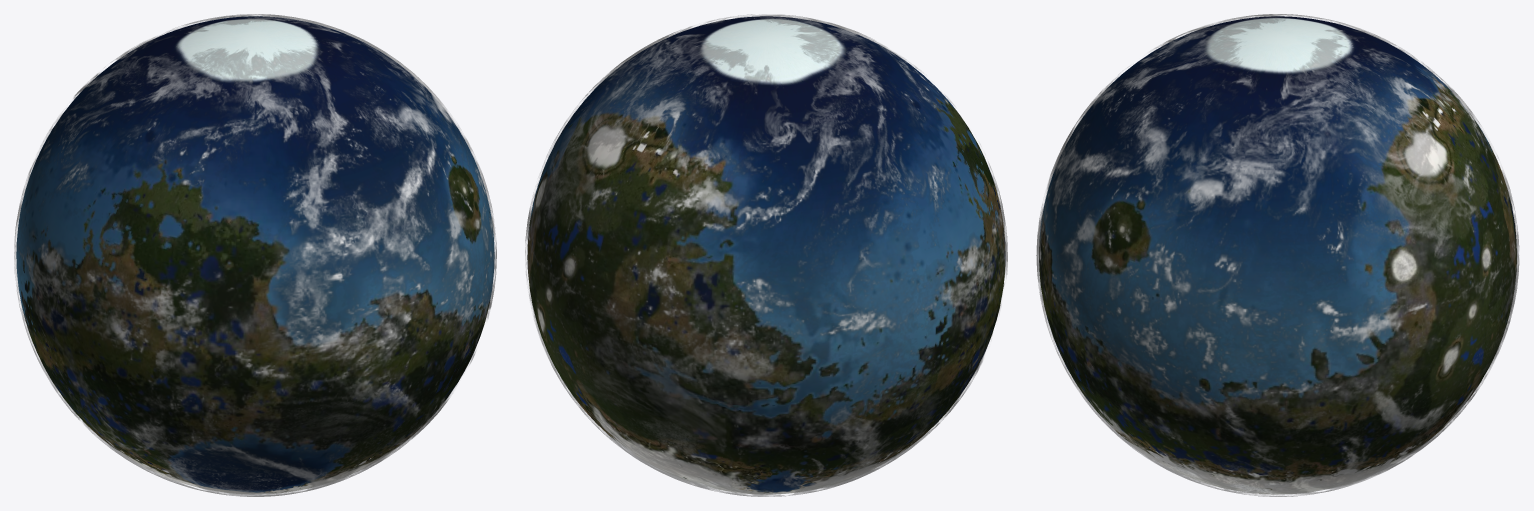
3 renders of one model, left to right at view 1: azimuth 30°, elevation 25°; view 2: azimuth 150°, elevation 25°; view 3: azimuth 270°, elevation 25°, orthographic.
Visible parts, largest first — view 1: Esfera_Mat_0, Esfera_1_Mat.1_0; view 2: Esfera_Mat_0, Esfera_1_Mat.1_0; view 3: Esfera_Mat_0, Esfera_1_Mat.1_0.
Part boxes in pixels (<box>): Esfera_Mat_0: <box>16,16,494,494</box>; Esfera_1_Mat.1_0: <box>14,14,496,496</box>; Esfera_Mat_0: <box>527,16,1005,494</box>; Esfera_1_Mat.1_0: <box>525,14,1007,496</box>; Esfera_Mat_0: <box>1039,16,1516,494</box>; Esfera_1_Mat.1_0: <box>1036,14,1519,496</box>.
Size of the model in its own units: 2020 by 2020 by 2020.
Materials: 2 (2 with a texture image).
